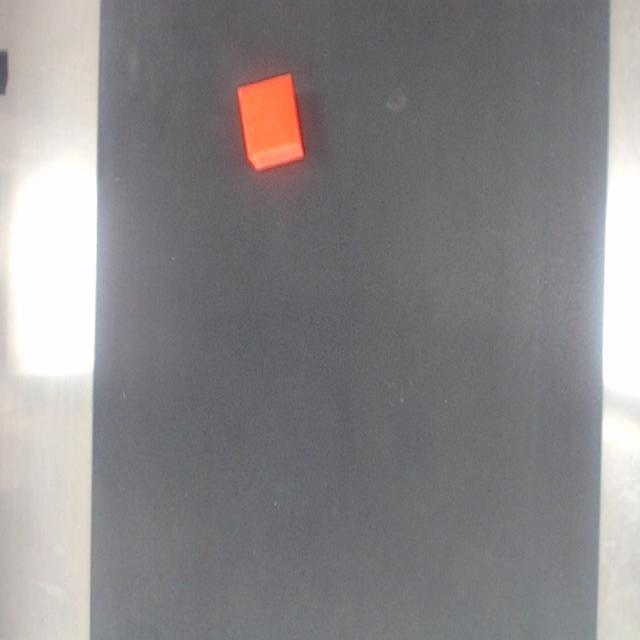Rojo: (237, 73, 304, 171)
